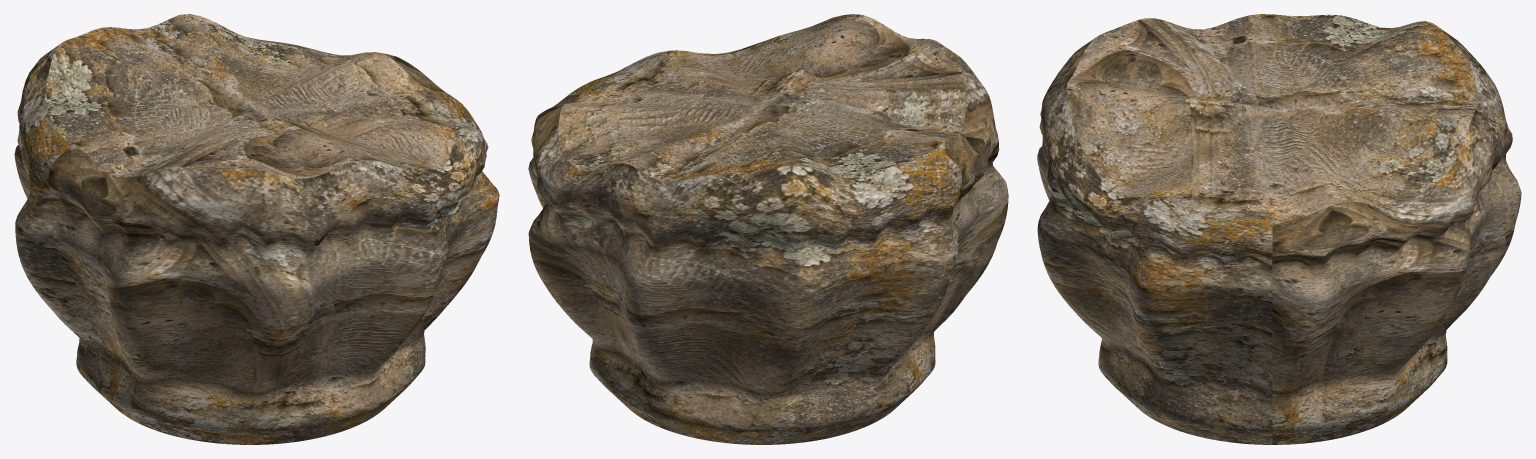
File: leaf_capital.glb
3 views of the same model, side by side, from view 1: azimuth 30°, elevation 25°; view 2: azimuth 150°, elevation 25°; view 3: azimuth 270°, elevation 25° (orthographic).
Visible parts, largest first — view 1: leaf_capital; view 2: leaf_capital; view 3: leaf_capital.
Boxes of the visible parts, <box> form: leaf_capital: <box>14,14,499,444</box>; leaf_capital: <box>528,14,1008,444</box>; leaf_capital: <box>1037,14,1521,444</box>.
Size of the model in its own units: 1.02 by 0.7008 by 1.01.
1 material, 1 textured.
